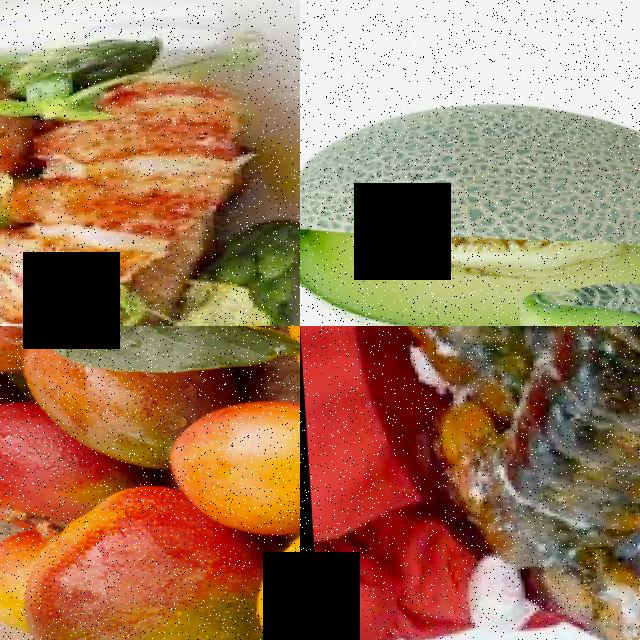lobster tails: (442, 326, 640, 563)
mango: (8, 482, 188, 640), (164, 396, 300, 532)
melon: (300, 91, 640, 296)
